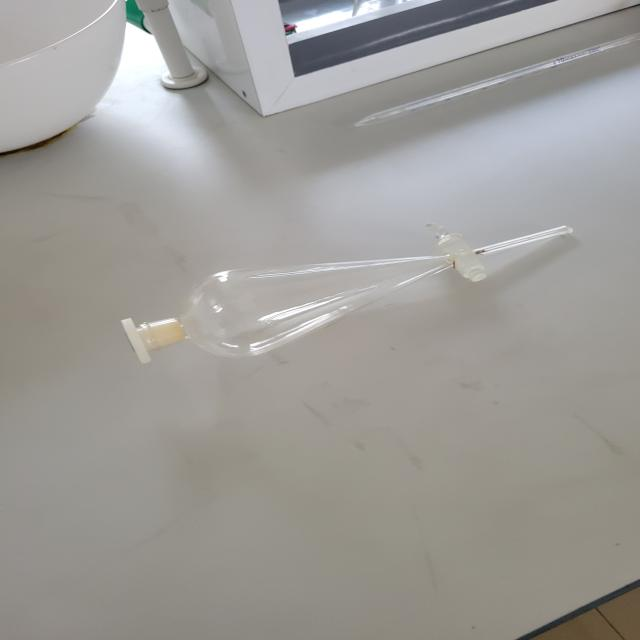Separating_Funnel: (107, 203, 606, 384)
